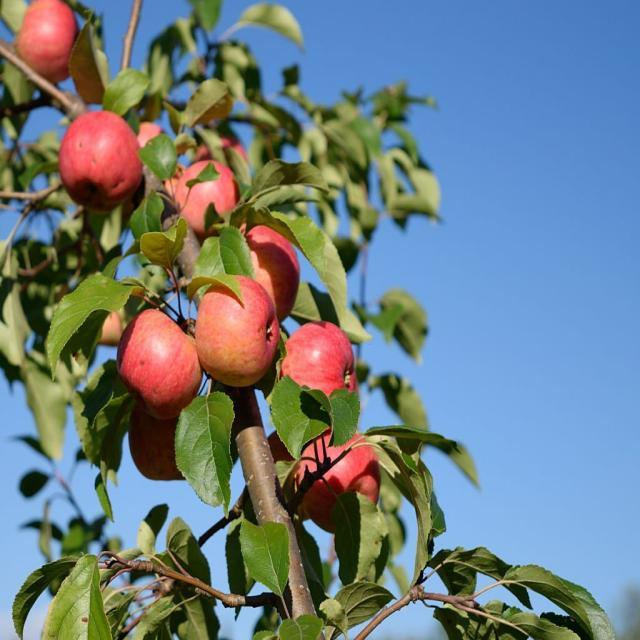Red Apple: (197, 273, 279, 378), (63, 106, 141, 205), (123, 304, 198, 401), (297, 427, 379, 512), (232, 220, 299, 323), (282, 316, 359, 404), (128, 398, 199, 483), (16, 3, 76, 78), (175, 165, 240, 226), (126, 110, 171, 177), (198, 134, 246, 184)
